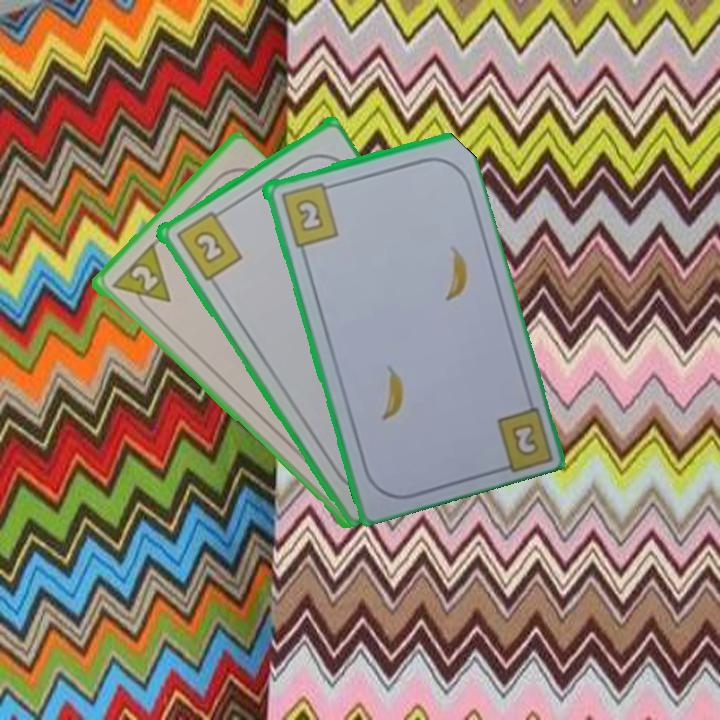2b: (172, 205, 245, 283), (277, 178, 341, 249), (507, 418, 542, 459)
2p: (107, 241, 173, 318)
